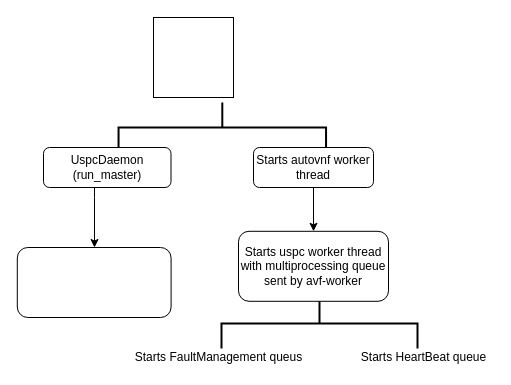
This 511x385 diagram has some shape labels left out. Here are the shapes that lost their labels. From the top down, the box of each, then its label:
(152, 16, 234, 98): UAME (USP-autovnf)
(16, 246, 171, 318): Start Staging Server (Starts Flask server and configure all the related url)
